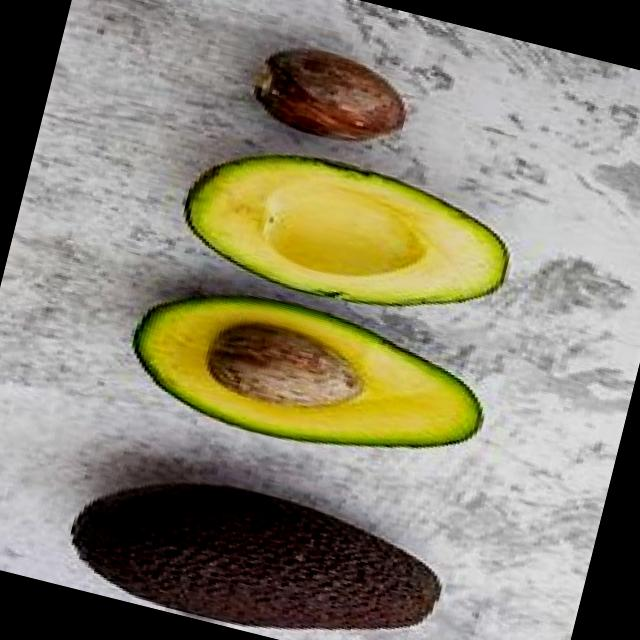avocado: (119, 267, 497, 487), (55, 448, 459, 640), (172, 136, 524, 336)
